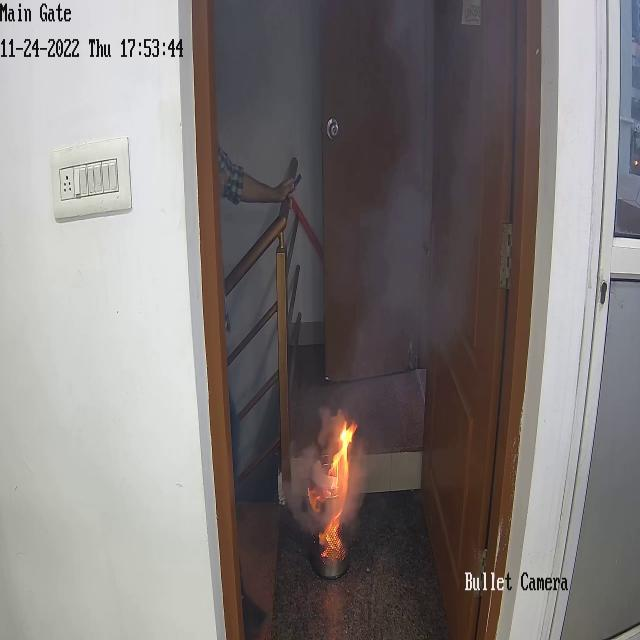fire: (298, 421, 366, 506), (318, 522, 346, 556)
smoke: (390, 2, 516, 118), (404, 120, 482, 250), (357, 197, 435, 297), (354, 322, 426, 416), (418, 242, 469, 326)
